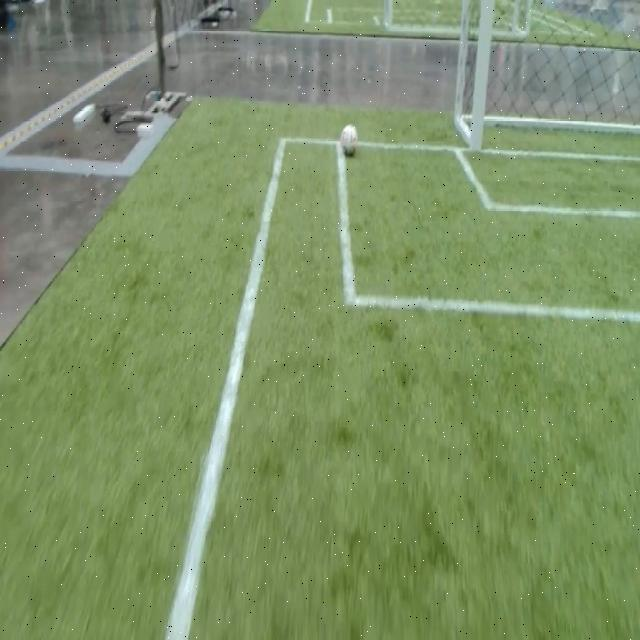ball: (340, 125, 358, 156)
goalpost: (466, 110, 486, 155)
